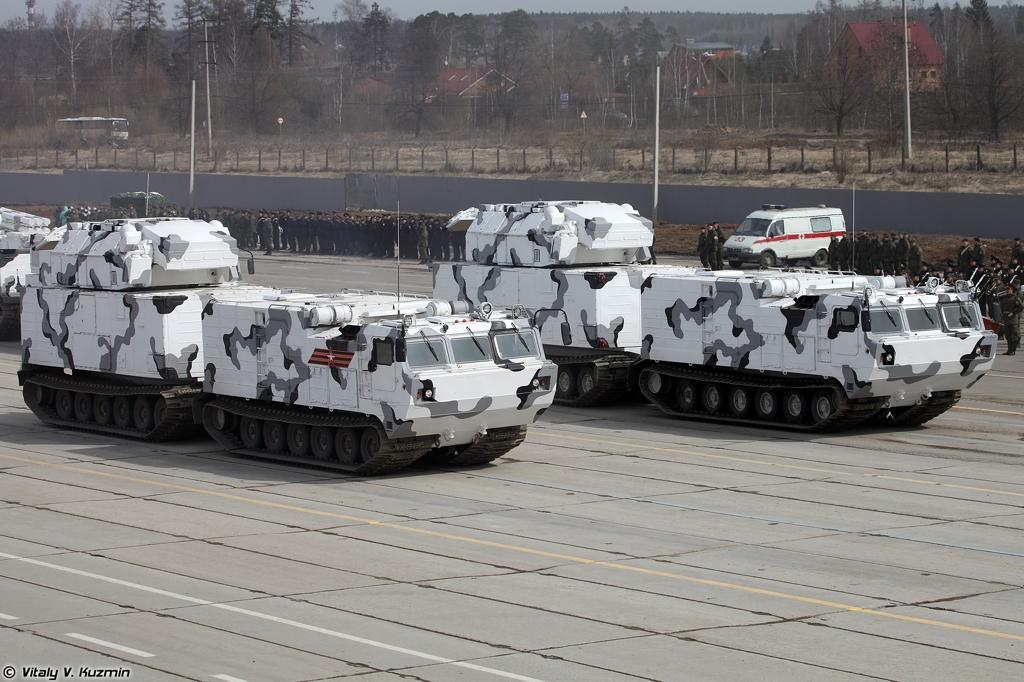MIL_IFV: (19, 217, 560, 472), (435, 203, 999, 436)
